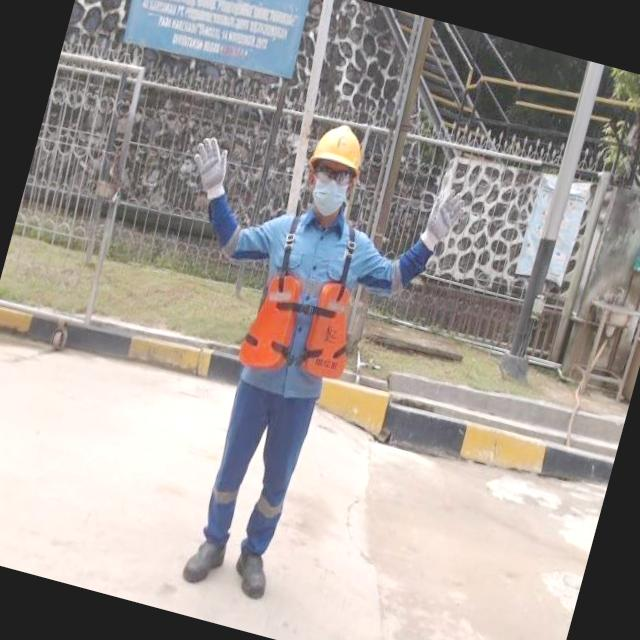vest: (227, 246, 376, 404)
